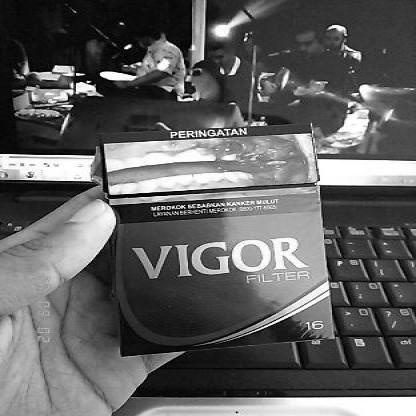objects: (100, 124, 334, 356)
